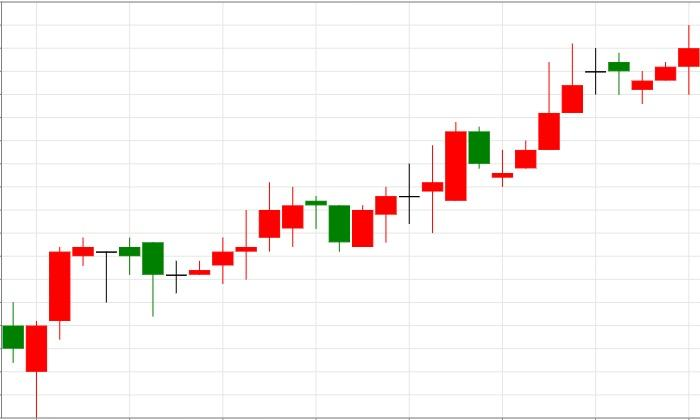evening_star_fall: (166, 182, 351, 294)
three_white_soldiers_rise: (444, 62, 561, 202)
